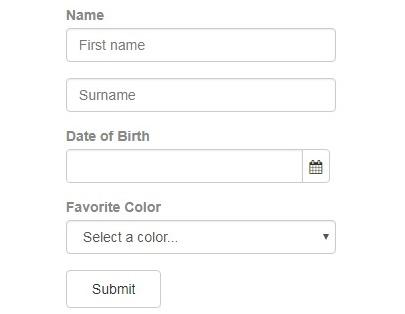button: (65, 270, 161, 308)
field: (64, 27, 336, 64), (64, 78, 337, 114), (66, 219, 337, 255), (64, 148, 332, 184)
field_with_label: (62, 9, 337, 66), (64, 200, 339, 256), (62, 130, 333, 185)
